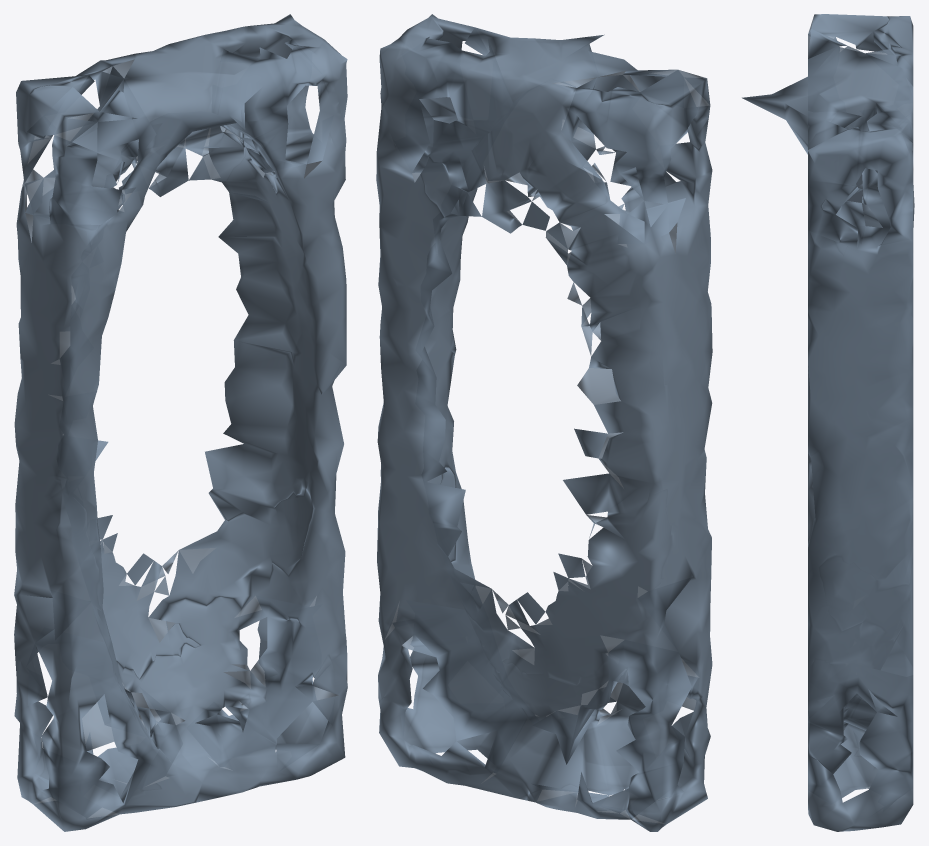
File: bathtub_0021_original.obj
3 renders of one model, left to right at view 1: azimuth 30°, elevation 25°; view 2: azimuth 150°, elevation 25°; view 3: azimuth 270°, elevation 25°, orthographic. The views are drawn at different scales.
Size of the model in its own units: 0.7396 by 1.8 by 0.4122.
